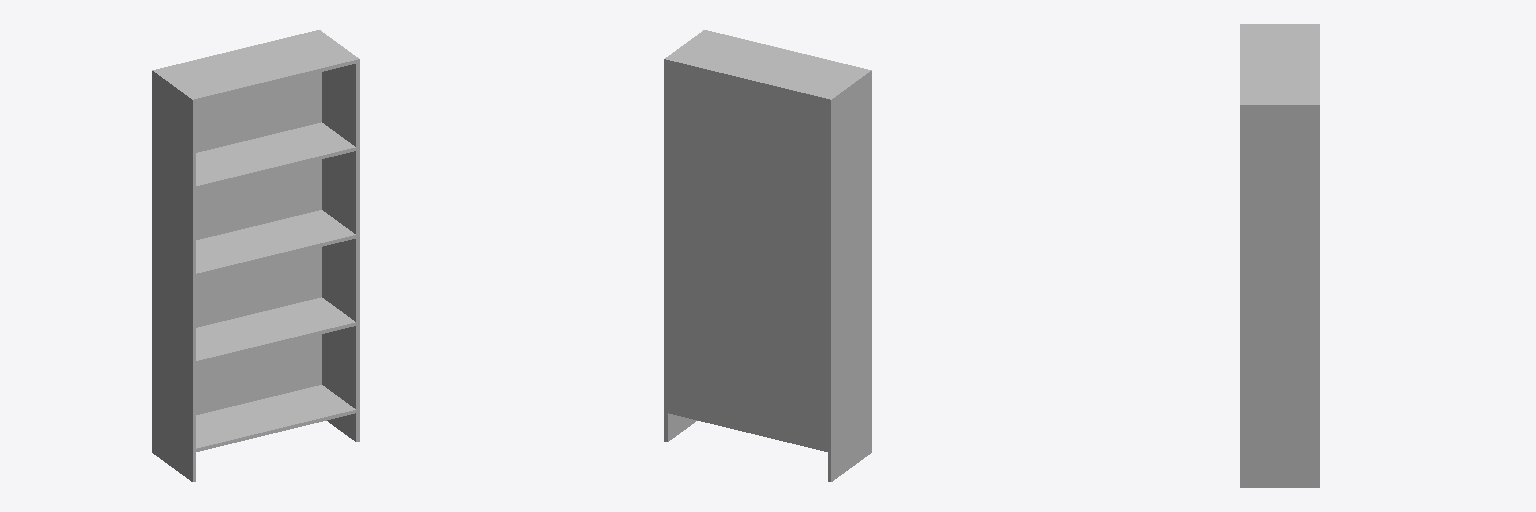
The model's file is Shelf2.obj.
The picture shows the model from 3 angles: view 1: azimuth 30°, elevation 25°; view 2: azimuth 150°, elevation 25°; view 3: azimuth 270°, elevation 25°; orthographic projection.
Visible parts, largest first — view 1: Shelf2; view 2: Shelf2; view 3: Shelf2.
Boxes of the visible parts, <box> form: Shelf2: <box>152,30,359,481</box>; Shelf2: <box>664,30,871,481</box>; Shelf2: <box>1240,24,1319,487</box>.
Bounding box in the file's own units: 48 × 105 × 20.